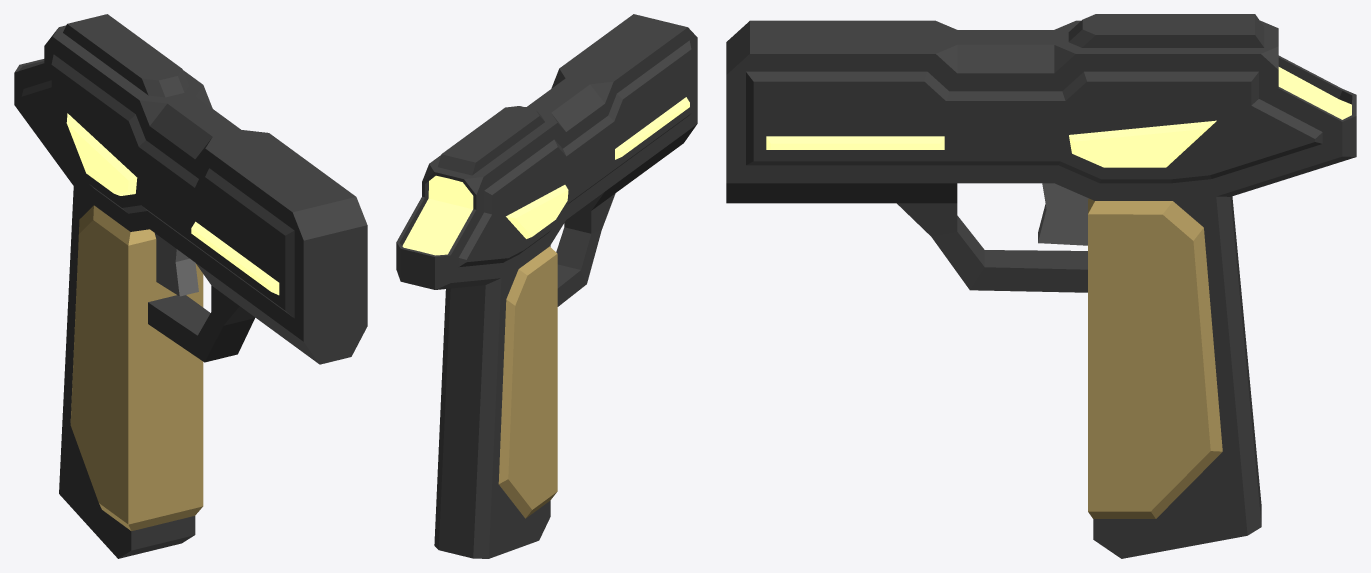
File: ItsWhatYouDoWithItThatCounts.fbx
The picture shows the model from 3 angles, left to right: view 1: azimuth 30°, elevation 25°; view 2: azimuth 150°, elevation 25°; view 3: azimuth 270°, elevation 25°; orthographic projection. The views are drawn at different scales.
Visible parts, largest first — view 1: ItsWhatYouDoWithItThatCounts; view 2: ItsWhatYouDoWithItThatCounts; view 3: ItsWhatYouDoWithItThatCounts.
Part boxes in pixels (box(x1,y1,x2,y2)): ItsWhatYouDoWithItThatCounts: box(14, 14, 367, 558); ItsWhatYouDoWithItThatCounts: box(396, 14, 697, 558); ItsWhatYouDoWithItThatCounts: box(726, 14, 1356, 558).
Bounding box in the file's own units: 28.72 × 152 × 168.
